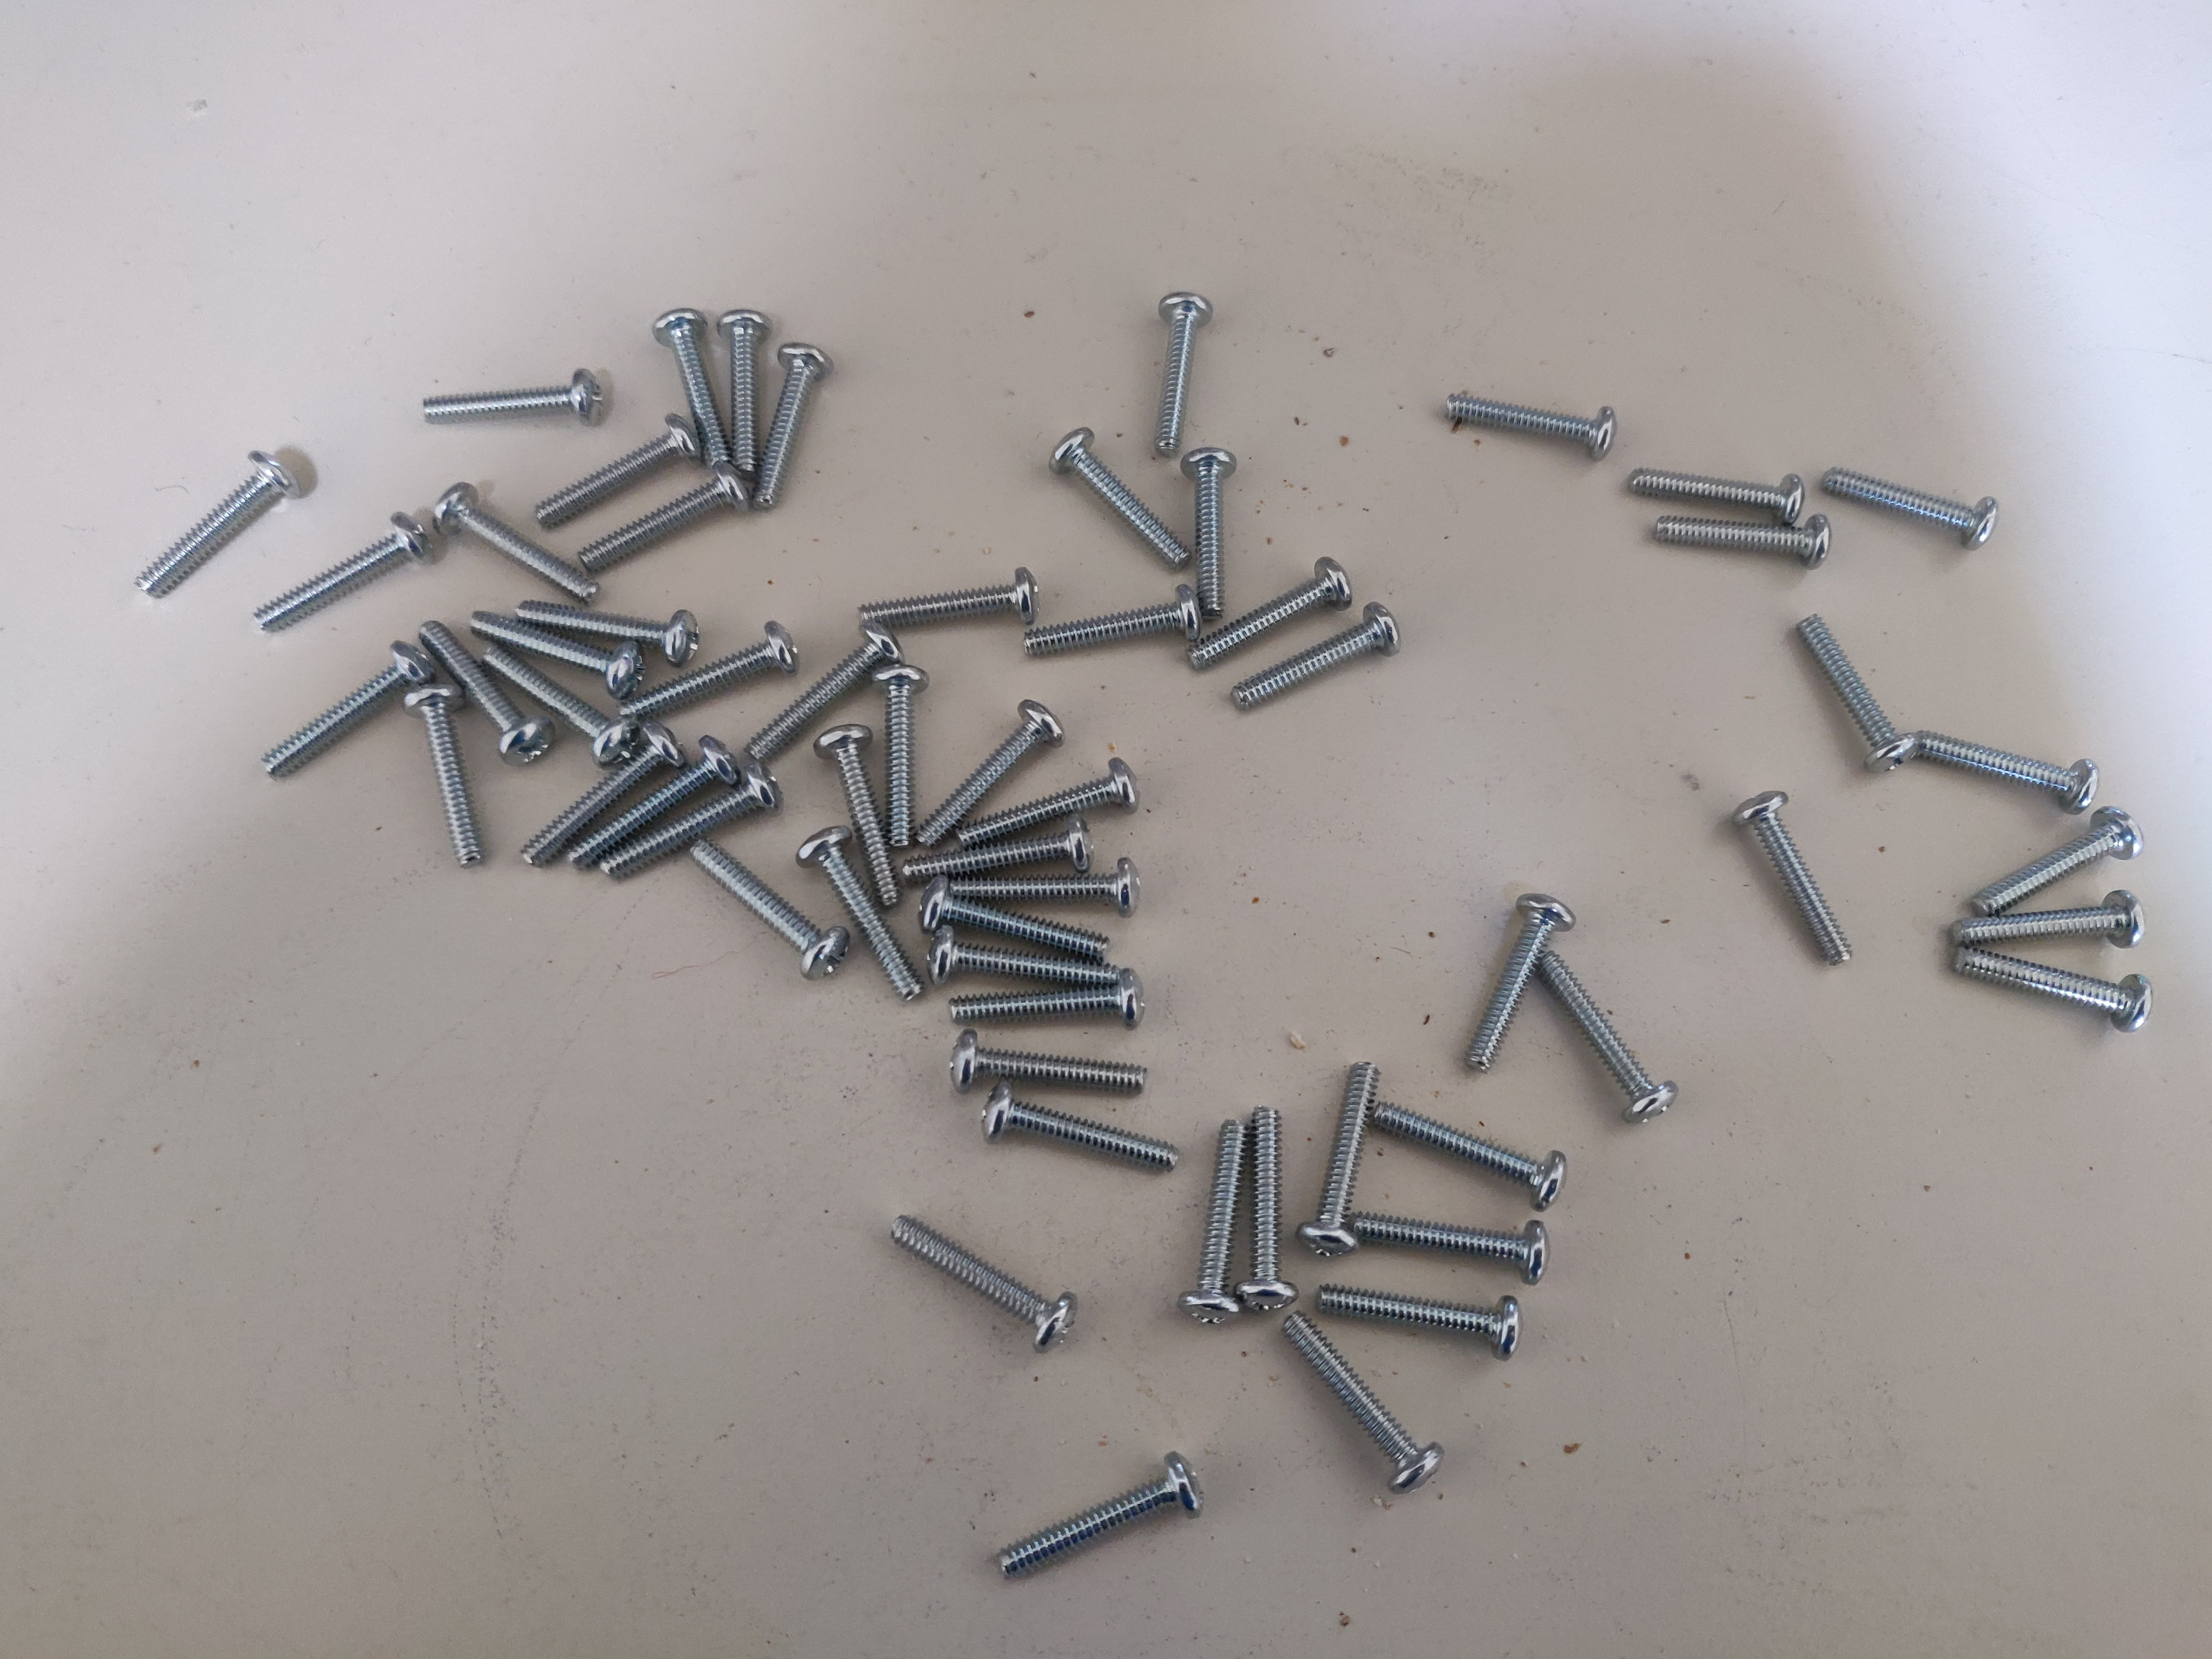longscrew: (880, 1209, 1085, 1351), (1287, 1307, 1439, 1493), (989, 1464, 1212, 1579), (1733, 782, 1864, 969), (1789, 606, 1923, 788), (1526, 958, 1676, 1117), (132, 457, 296, 598), (254, 648, 428, 779), (683, 849, 852, 983), (514, 728, 676, 863), (571, 732, 733, 866), (1449, 892, 1576, 1061), (613, 770, 775, 903), (737, 633, 916, 749), (427, 481, 596, 605), (1959, 950, 2158, 1053), (1376, 1101, 1571, 1204), (1315, 1277, 1529, 1370), (1336, 1215, 1550, 1307), (254, 507, 418, 627), (921, 702, 1064, 836), (475, 648, 636, 767), (806, 824, 916, 997), (1966, 812, 2149, 911), (1238, 599, 1407, 706), (1043, 430, 1177, 559), (583, 462, 744, 568), (618, 626, 792, 723), (540, 416, 686, 530), (421, 622, 540, 762), (1188, 559, 1345, 664), (1925, 723, 2099, 812), (954, 756, 1155, 833), (406, 688, 491, 868), (1825, 457, 2000, 544), (827, 728, 906, 911), (1177, 1122, 1247, 1326), (1228, 1105, 1298, 1309), (1308, 1051, 1378, 1255), (925, 925, 1122, 995), (953, 1026, 1150, 1096), (921, 894, 1116, 964), (954, 960, 1150, 1030), (986, 1098, 1181, 1168), (765, 336, 845, 495), (1146, 288, 1226, 446), (529, 596, 698, 671), (648, 303, 728, 460), (1169, 444, 1249, 601), (470, 619, 637, 694), (697, 310, 775, 467), (860, 577, 1040, 638), (944, 861, 1160, 911), (1432, 392, 1613, 451), (409, 364, 608, 418), (1031, 589, 1211, 648), (1623, 464, 1803, 523), (1656, 518, 1836, 577), (894, 824, 1109, 873), (1932, 906, 2153, 943)
